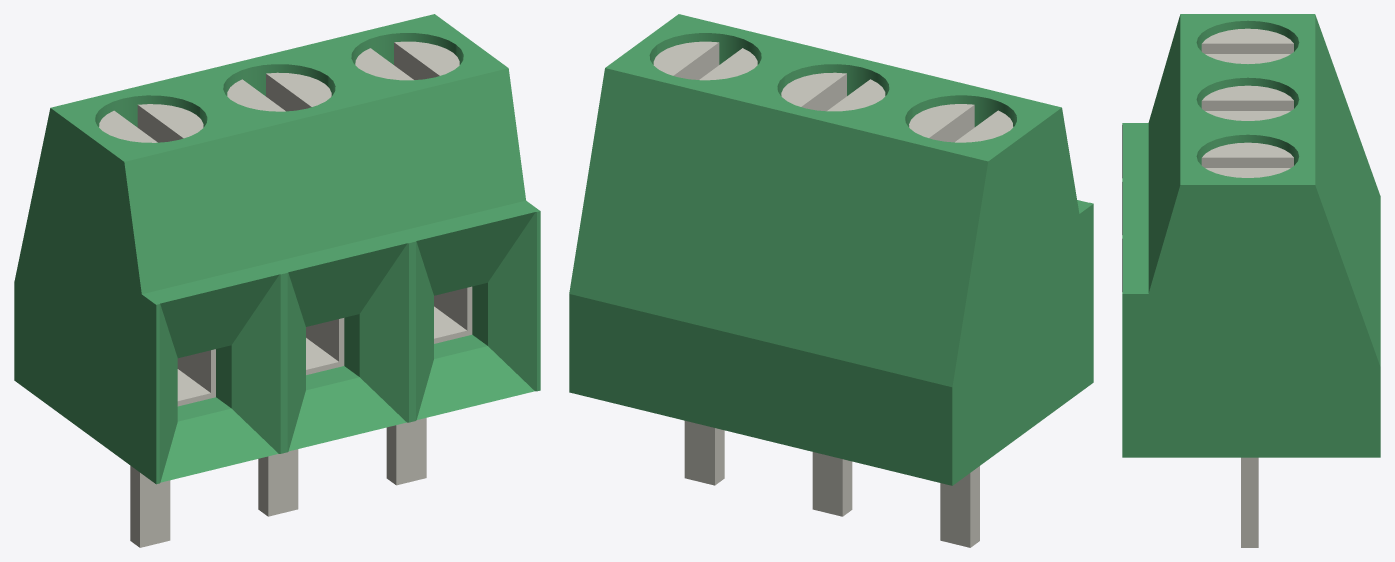
Rendered from kc-terminalblock_phoenix_mkds-1-3-3.81_1x03_p3.81mm_horizontal.glb.
The picture shows the model from 3 angles, left to right: view 1: azimuth 30°, elevation 25°; view 2: azimuth 150°, elevation 25°; view 3: azimuth 270°, elevation 25°; orthographic projection. The views are drawn at different scales.
Visible parts, largest first — view 1: 0.08333333333333333_0.4166666666666667_0.16666666666666666_0, 0.6666666666666666_0.6666666666666666_0.5833333333333334_0.8; view 2: 0.08333333333333333_0.4166666666666667_0.16666666666666666_0, 0.6666666666666666_0.6666666666666666_0.5833333333333334_0.8; view 3: 0.08333333333333333_0.4166666666666667_0.16666666666666666_0, 0.6666666666666666_0.6666666666666666_0.5833333333333334_0.8.
Boxes of the visible parts, x1,y1,x2,y2 form: 0.08333333333333333_0.4166666666666667_0.16666666666666666_0: [14, 14, 540, 484]; 0.6666666666666666_0.6666666666666666_0.5833333333333334_0.8: [99, 41, 472, 547]; 0.08333333333333333_0.4166666666666667_0.16666666666666666_0: [569, 14, 1093, 485]; 0.6666666666666666_0.6666666666666666_0.5833333333333334_0.8: [653, 41, 1013, 547]; 0.08333333333333333_0.4166666666666667_0.16666666666666666_0: [1122, 14, 1380, 457]; 0.6666666666666666_0.6666666666666666_0.5833333333333334_0.8: [1201, 28, 1293, 547].
Size of the model in its own units: 1.14 by 1.2 by 0.73.
